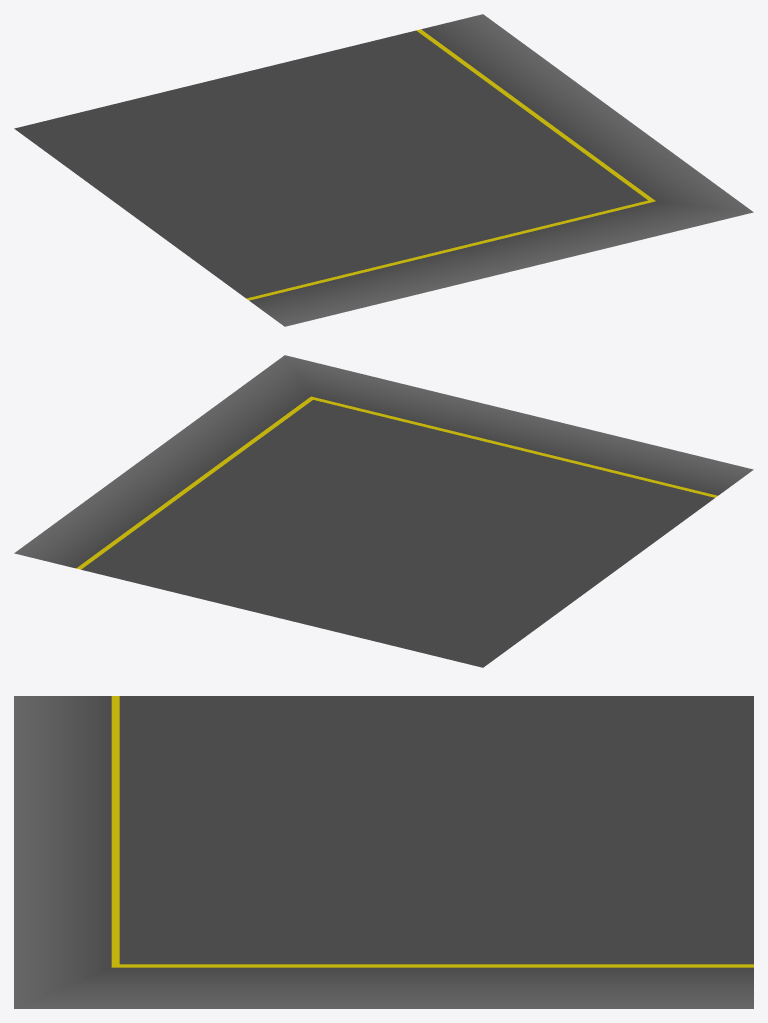
The model's file is roadangle90_2_ex.fbx.
3 views of the same model, one above another, from view 1: azimuth 30°, elevation 25°; view 2: azimuth 150°, elevation 25°; view 3: azimuth 270°, elevation 25° (orthographic). The views are drawn at different scales.
Parts seen in each view (by area): view 1: roadangle90_2_ex; view 2: roadangle90_2_ex; view 3: roadangle90_2_ex.
Boxes of the visible parts, left/top/right/bottom form: roadangle90_2_ex: left=14, top=14, right=753, bottom=326; roadangle90_2_ex: left=14, top=355, right=753, bottom=667; roadangle90_2_ex: left=14, top=696, right=753, bottom=1008.
Size of the model in its own units: 14 by 14 by 0.
